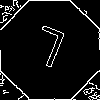L: (25, 25, 68, 77)
